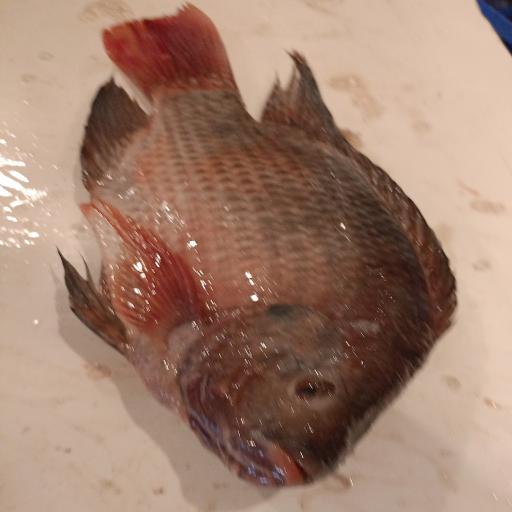Tilapia: (56, 3, 458, 489)
